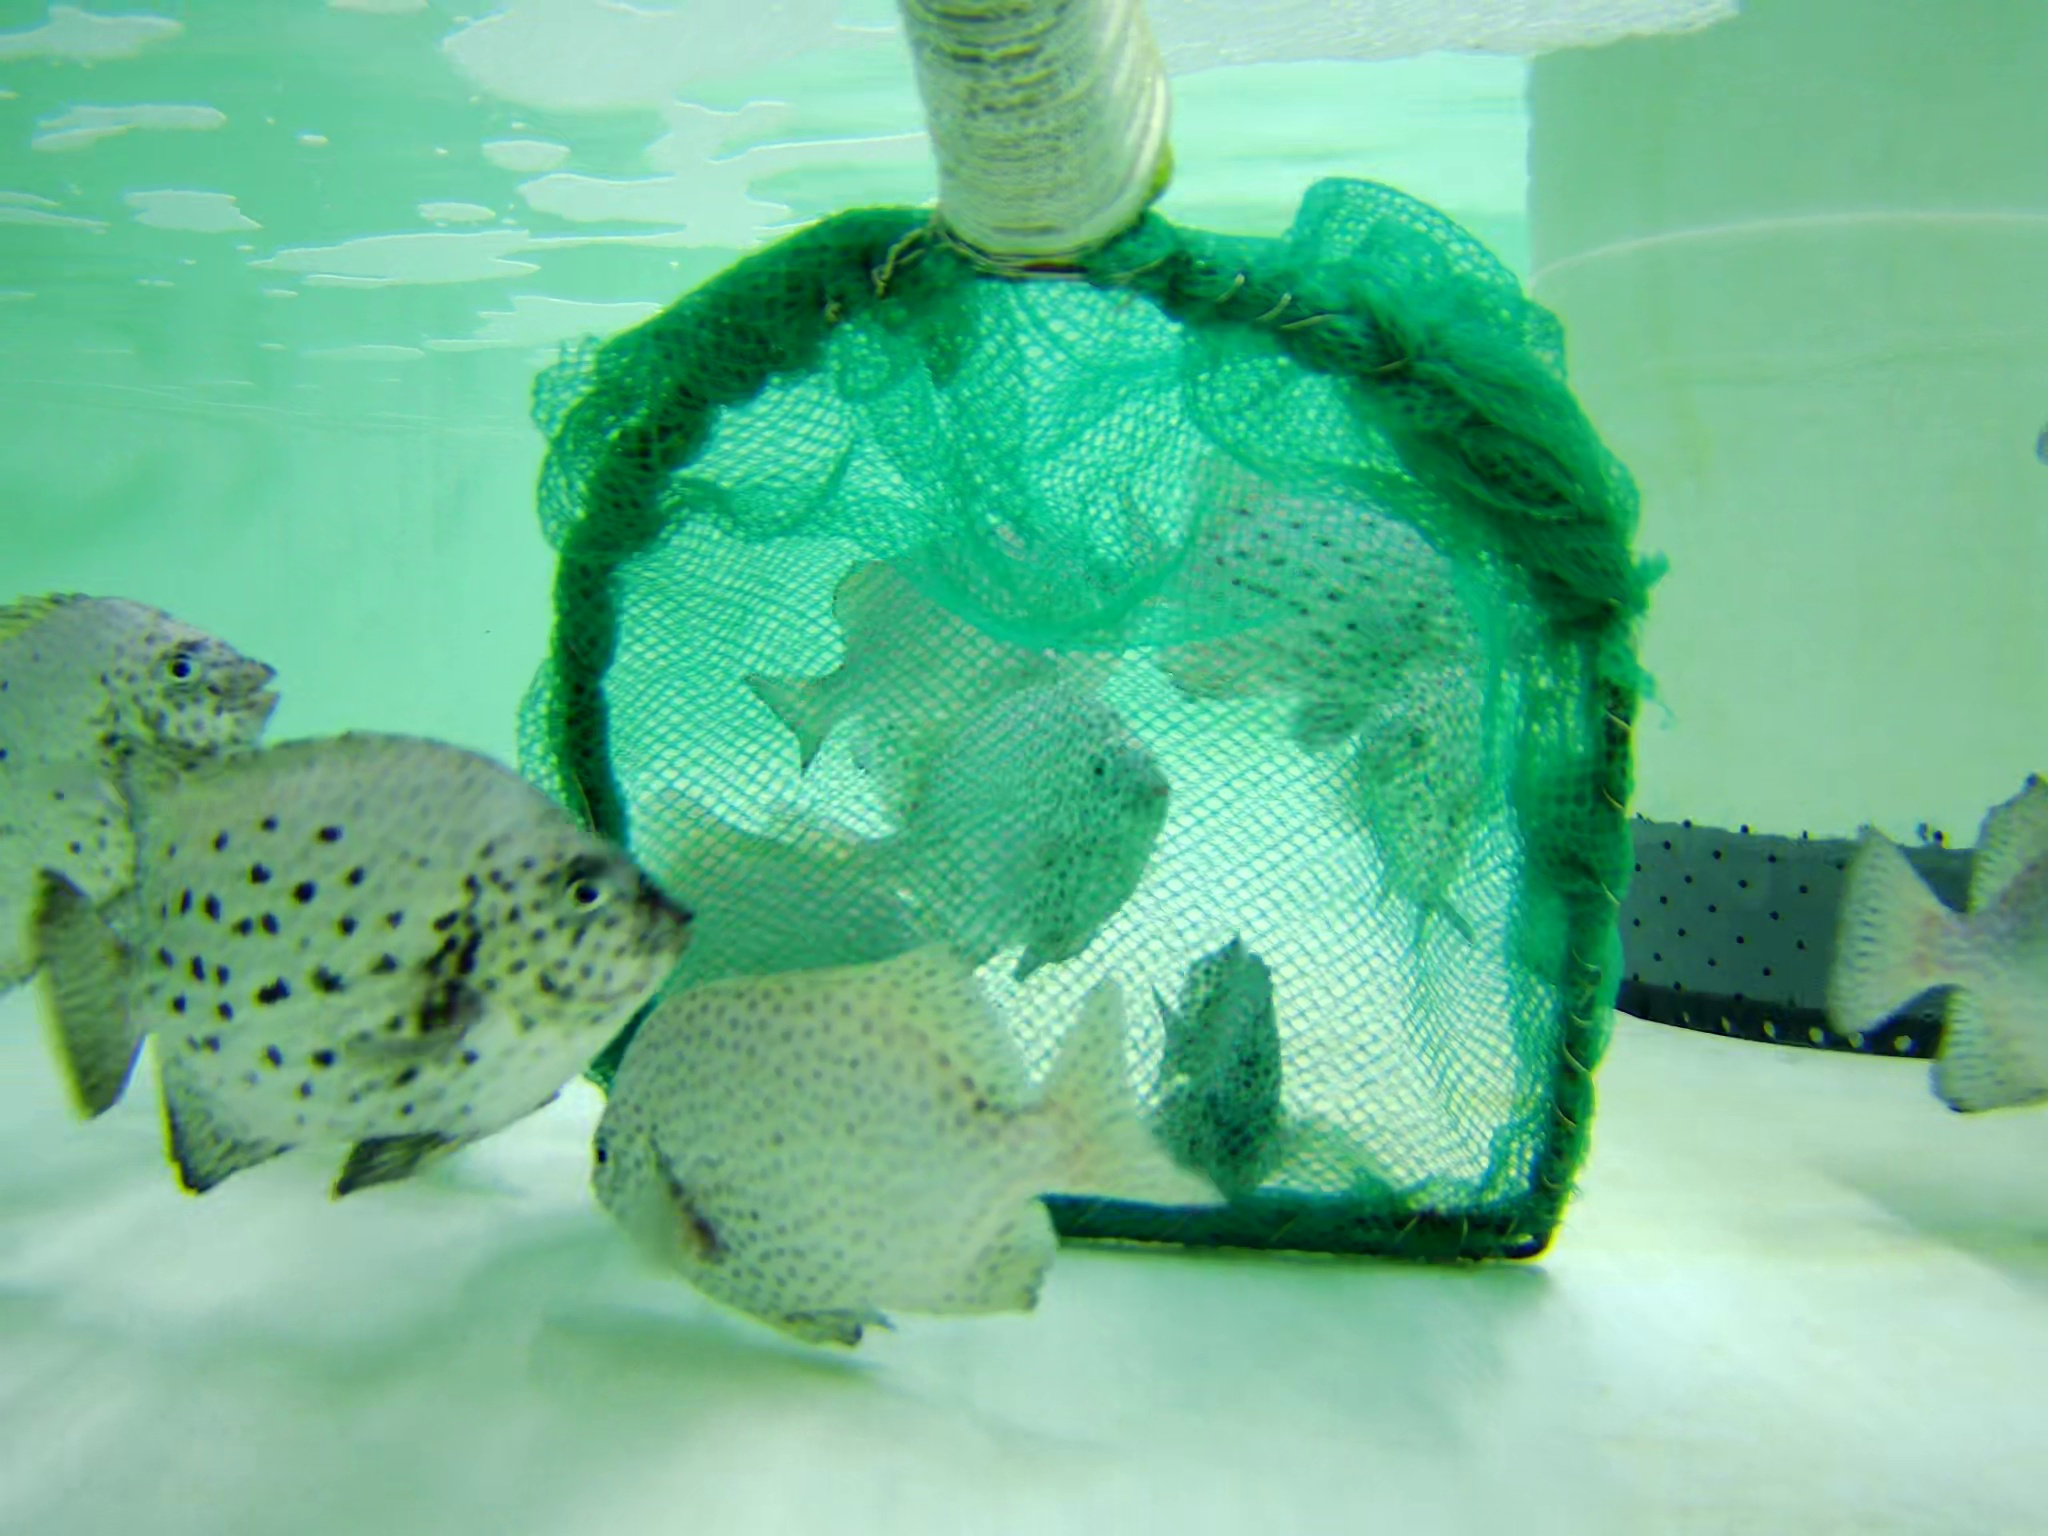fish: (60, 700, 739, 1226), (603, 952, 1177, 1347), (2, 581, 284, 986), (1101, 445, 1480, 720), (818, 710, 1177, 978), (742, 531, 1142, 733), (1824, 779, 2048, 1136), (1321, 691, 1503, 947), (1158, 925, 1311, 1212)
